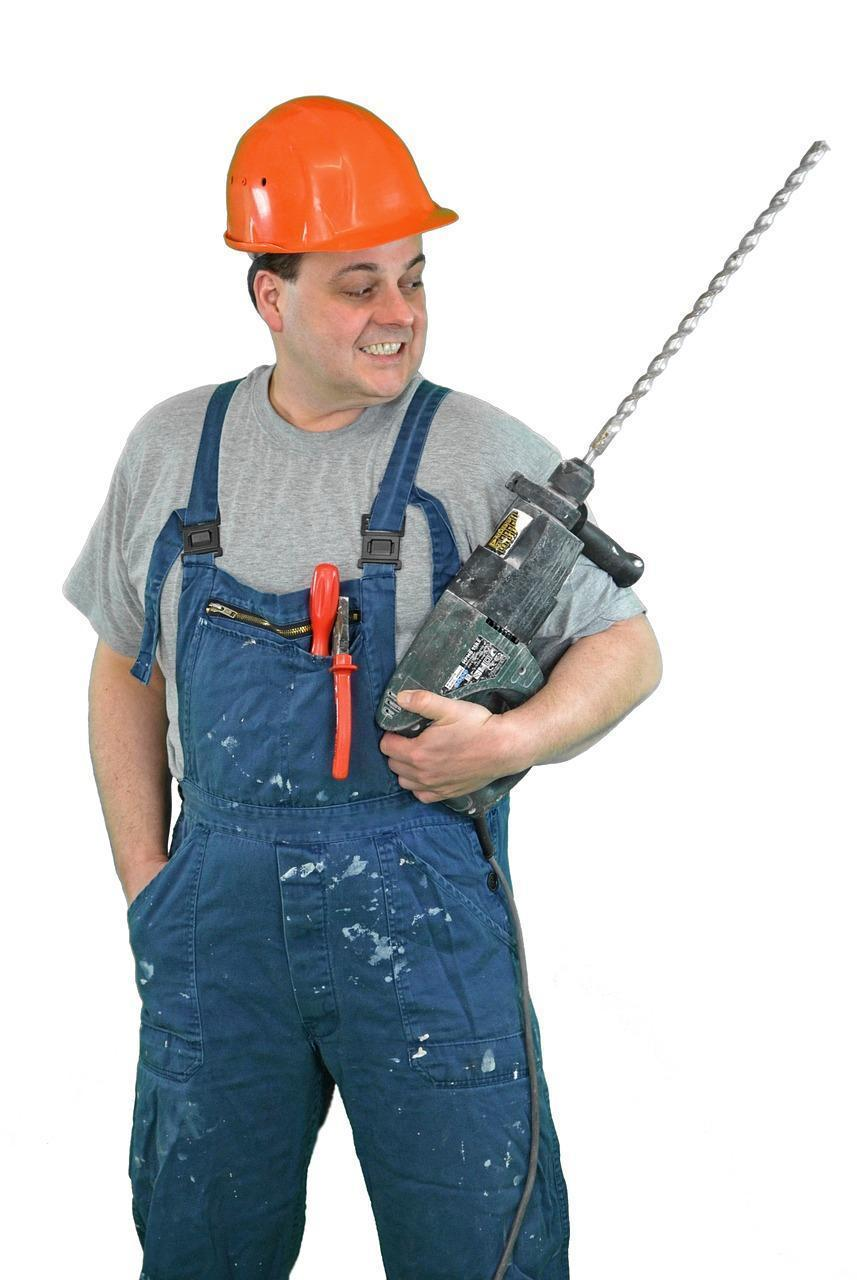Boots: (205, 85, 470, 427)
Ear-protection: (51, 371, 691, 1275)
